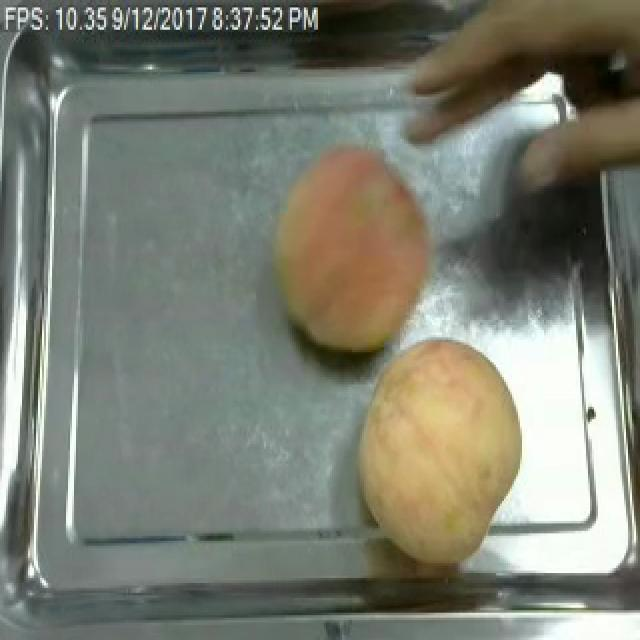Fruit: (344, 332, 534, 570), (262, 134, 448, 365)
